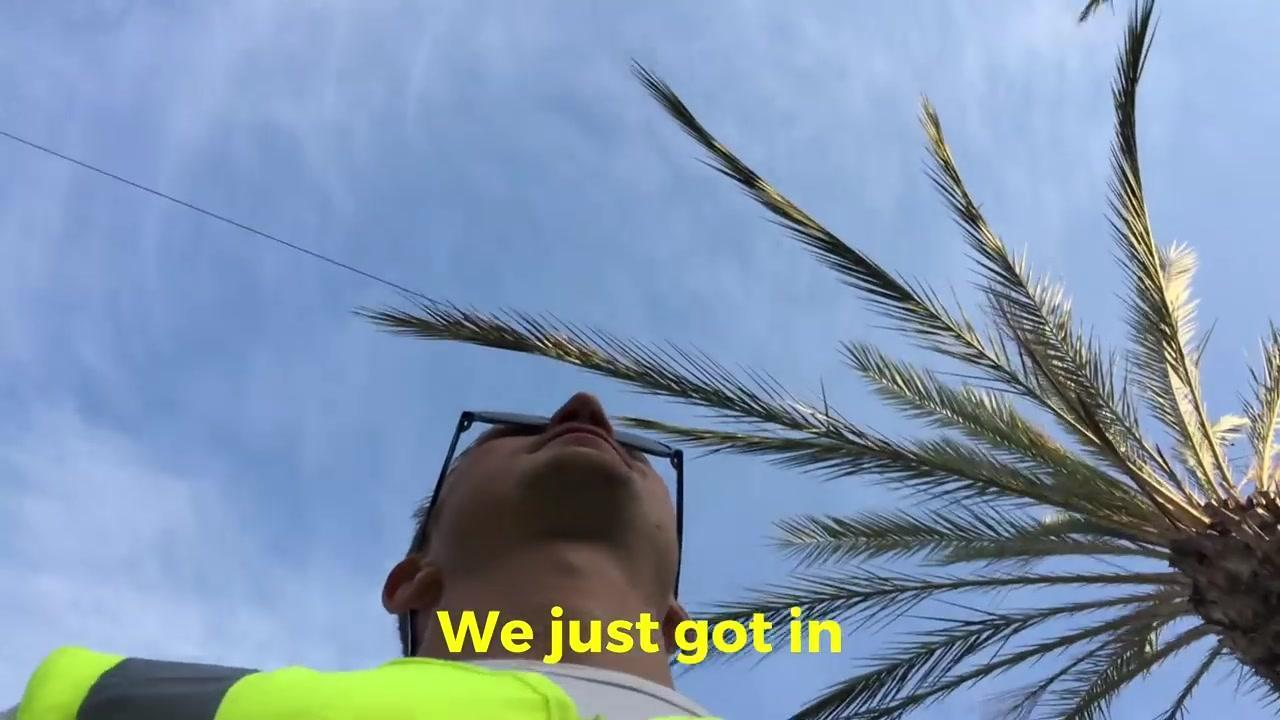vest: (15, 647, 580, 719)
